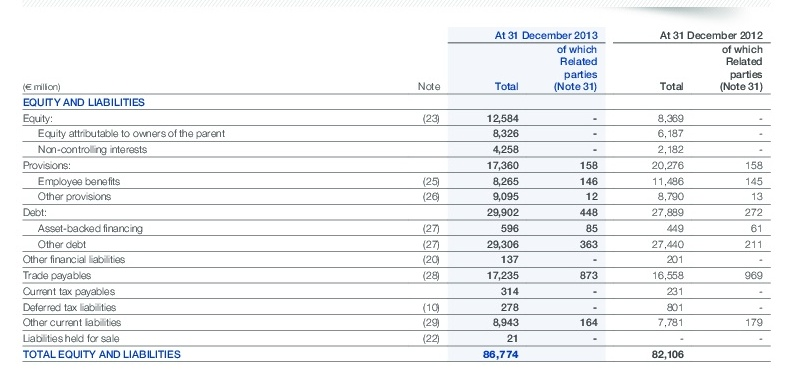table: (0, 0, 789, 381)
